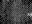person: (26, 12, 31, 17)
